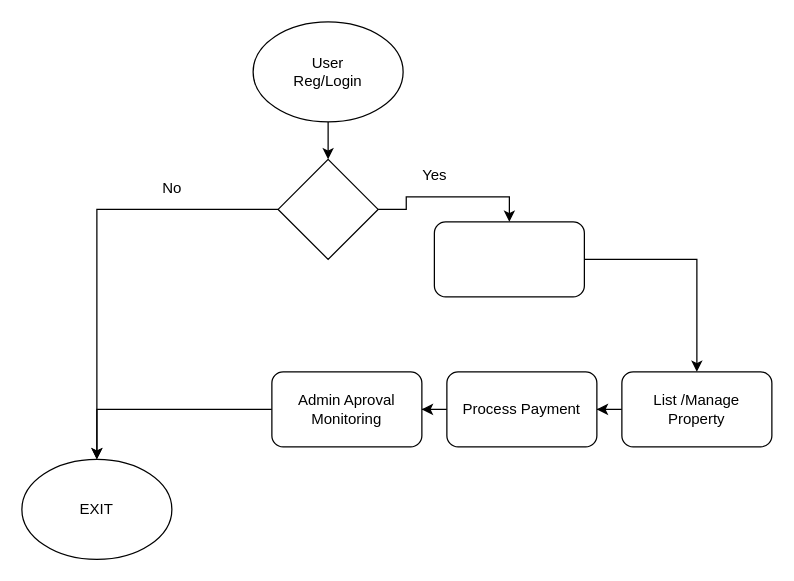
Image size: 794x581. Some labels were removed from this diagram. The box of each missing label's shape, as (x1, y1, x2, y2) in pixels:
Regi/Lgin: (277, 158, 378, 259)
Search Book Properties: (433, 221, 584, 297)
